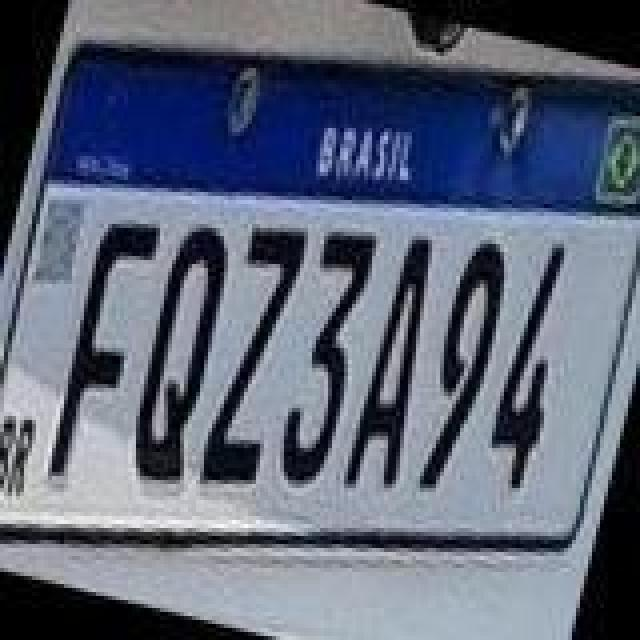3: (262, 222, 386, 498)
4: (480, 238, 592, 498)
9: (408, 236, 520, 500)
A: (342, 232, 458, 504)
F: (42, 212, 166, 492)
Q: (116, 216, 244, 488)
Z: (190, 214, 322, 498)
